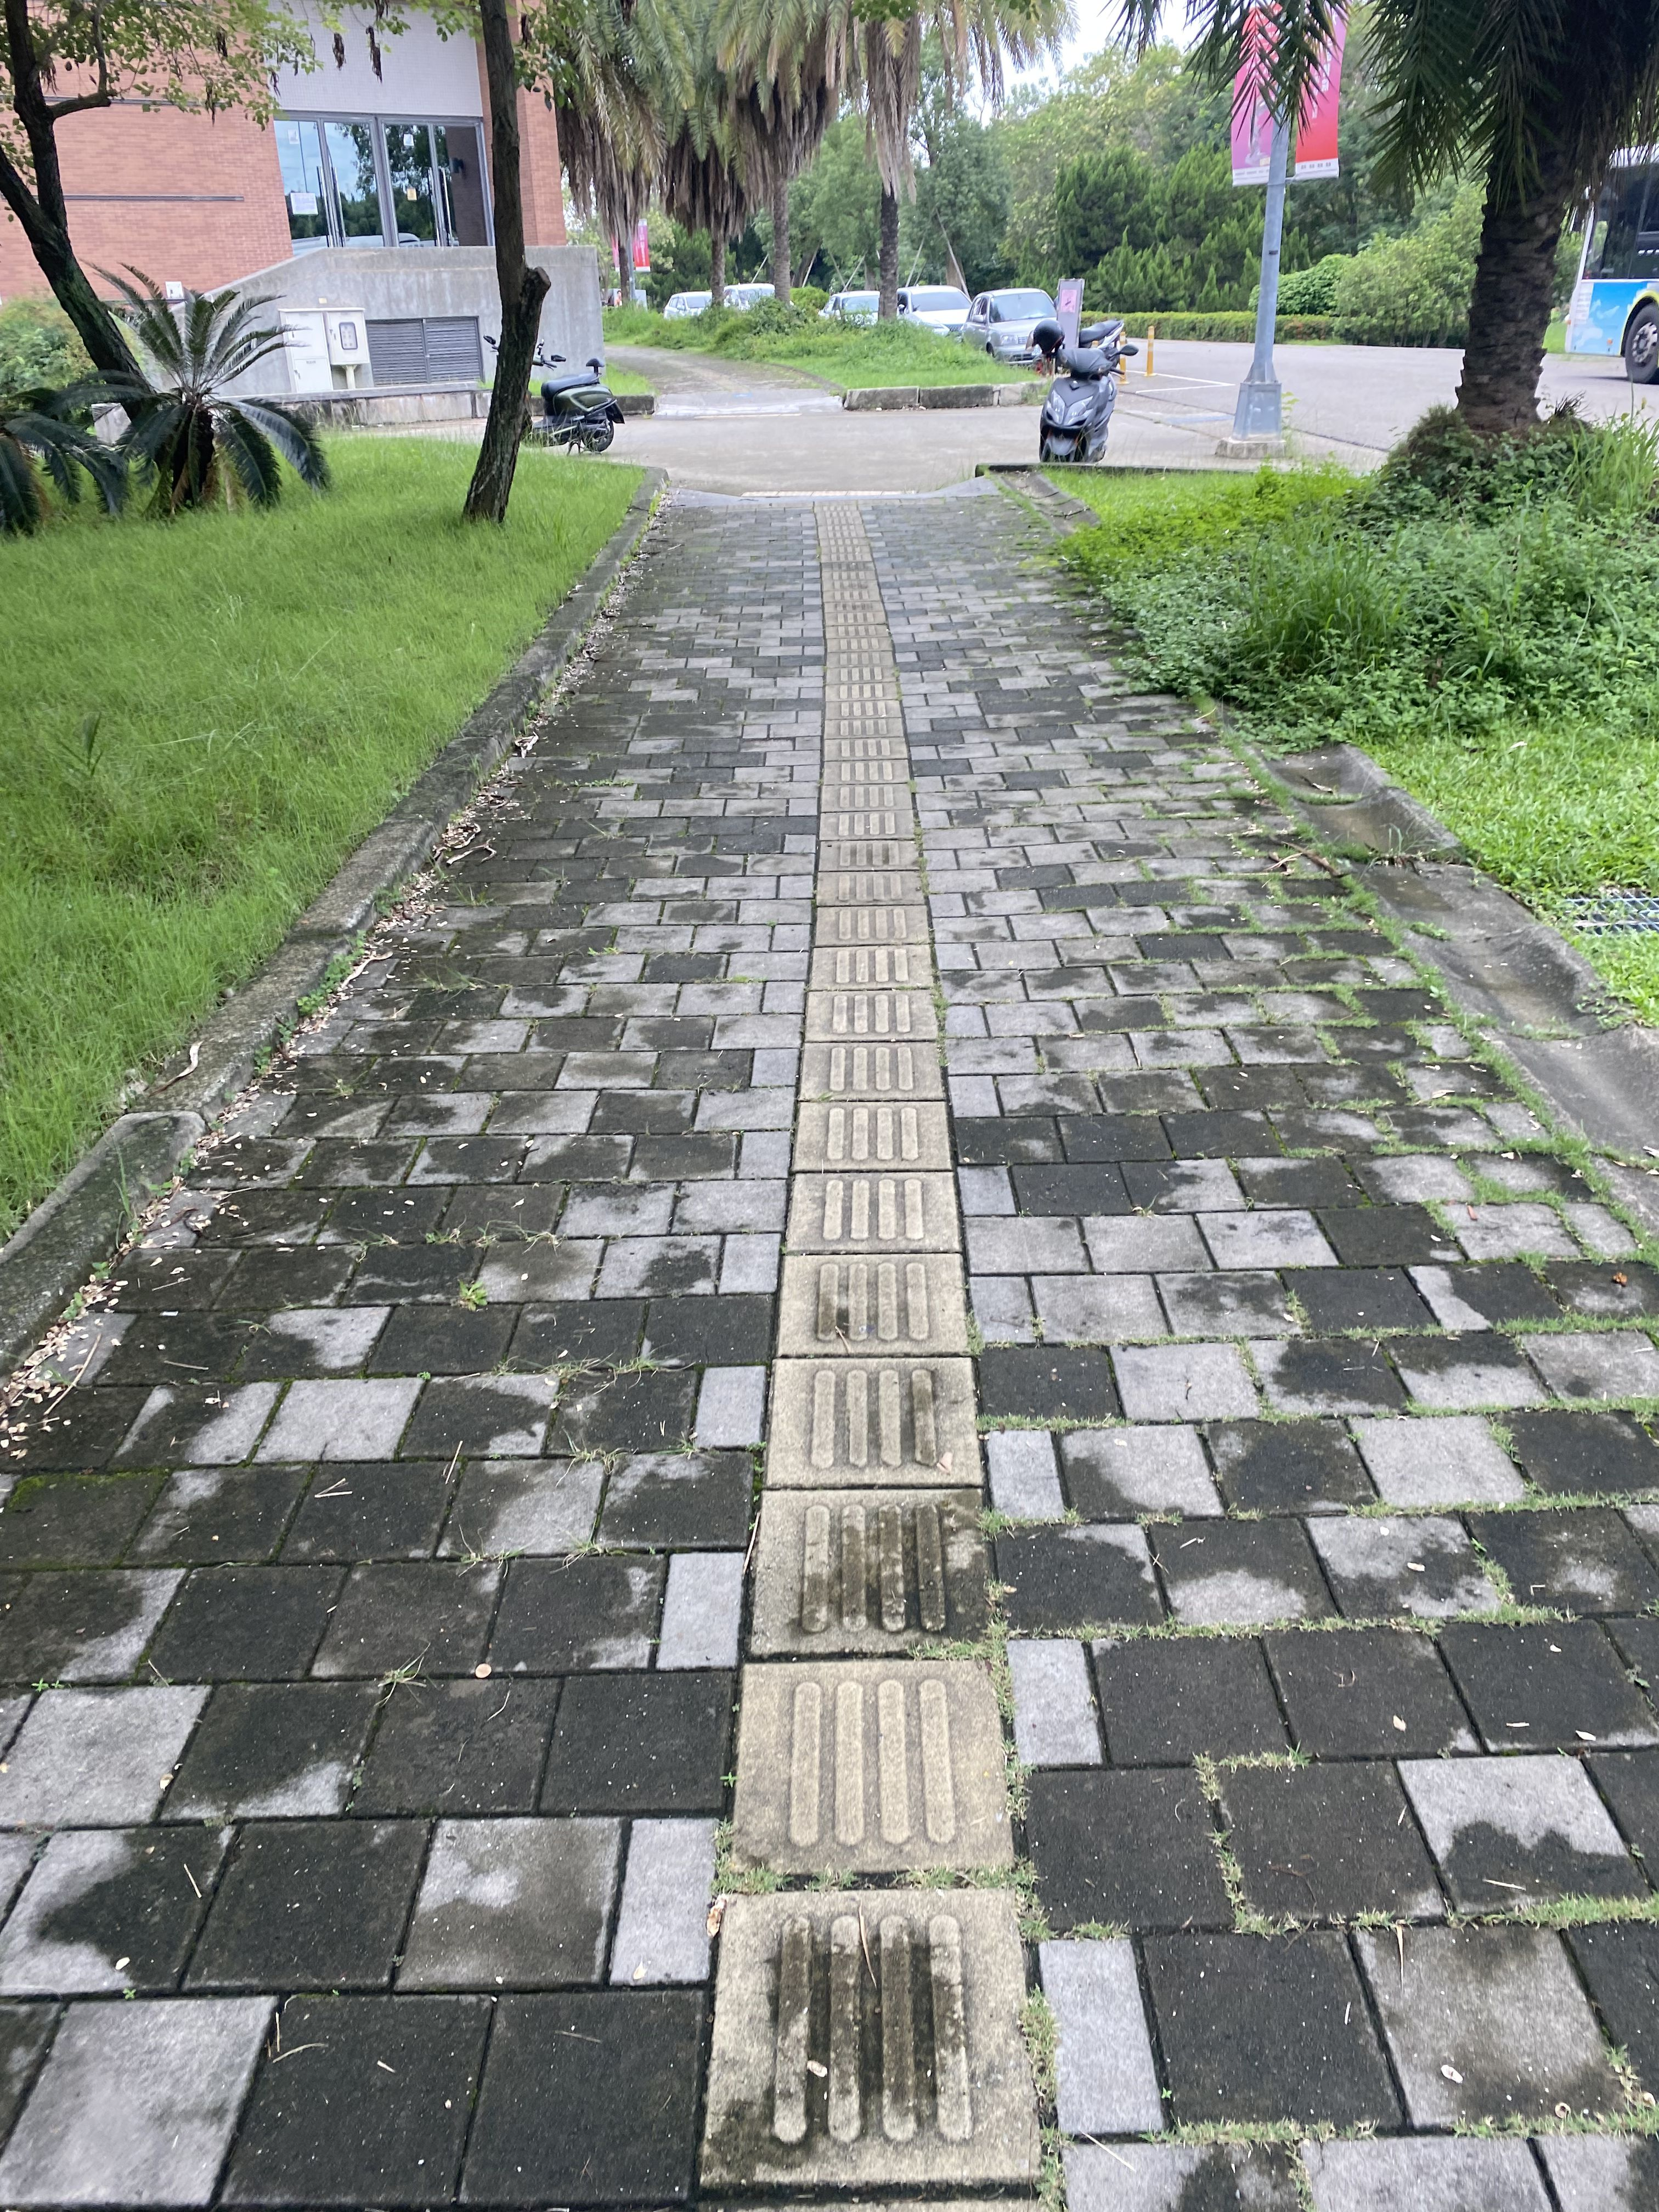sidewalk: (0, 500, 1656, 2212)
